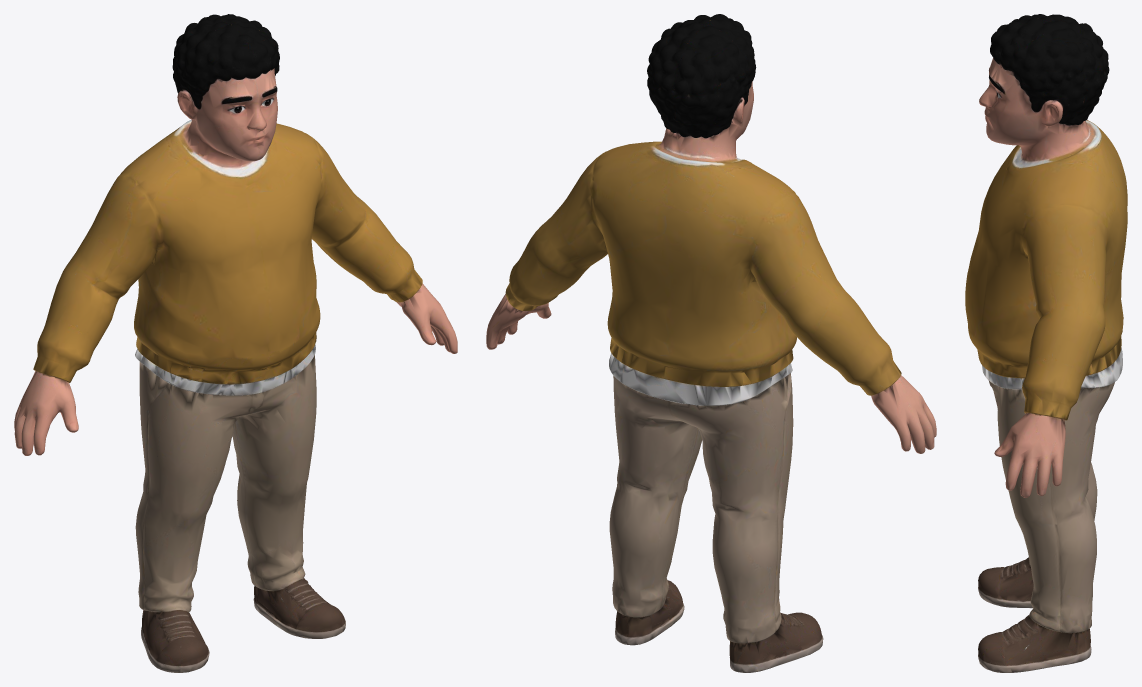
The model's file is tomas.glb.
3 renders of one model, left to right at view 1: azimuth 30°, elevation 25°; view 2: azimuth 150°, elevation 25°; view 3: azimuth 270°, elevation 25°, orthographic.
Bounding box in the file's own units: 1.41 × 1.9 × 0.4596.
1 material, 1 textured.
